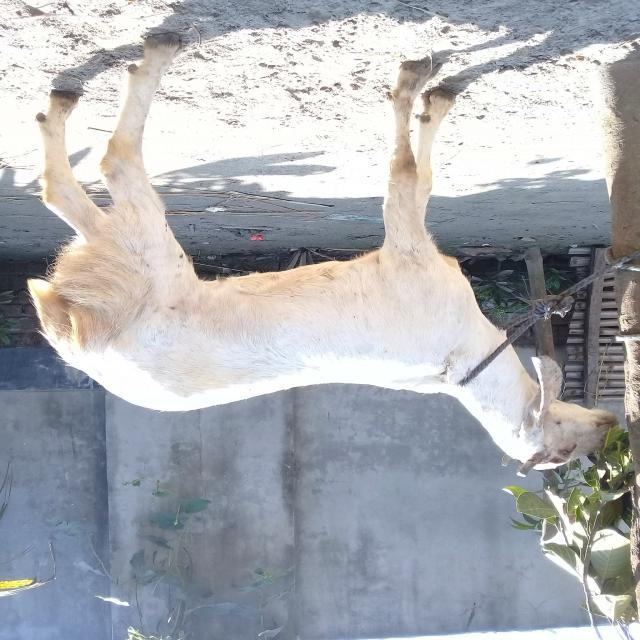Goat: (26, 33, 621, 478)
